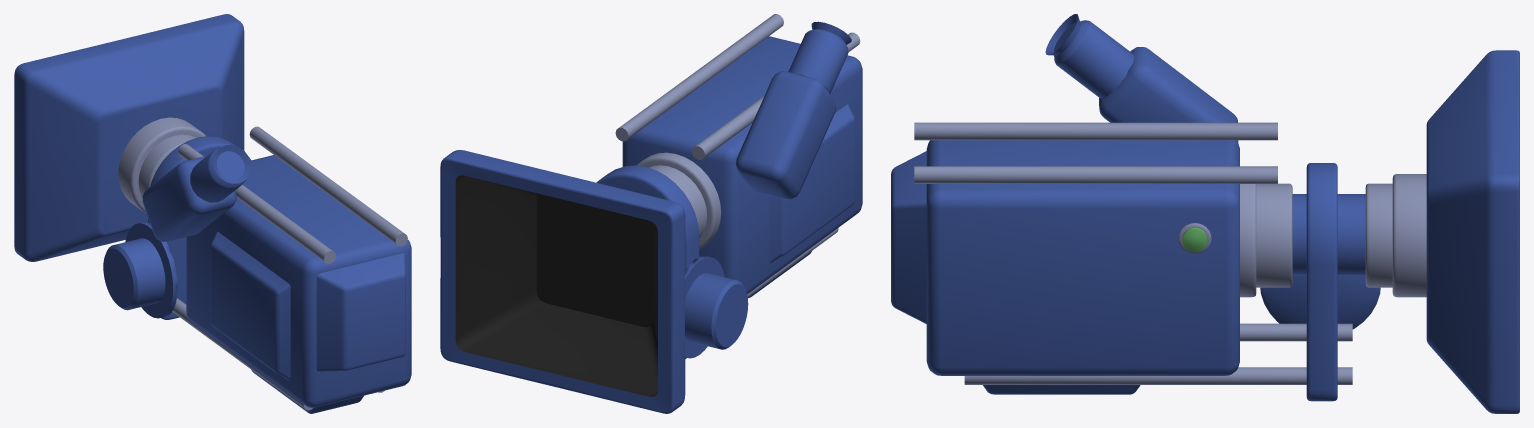
Rendered from MatineeCam_SM.obj.
The picture shows the model from 3 angles, left to right: view 1: azimuth 30°, elevation 25°; view 2: azimuth 150°, elevation 25°; view 3: azimuth 270°, elevation 25°; orthographic projection. The views are drawn at different scales.
Size of the model in its own units: 48.02 by 53.52 by 95.62.
Materials: 1 (1 with a texture image).
